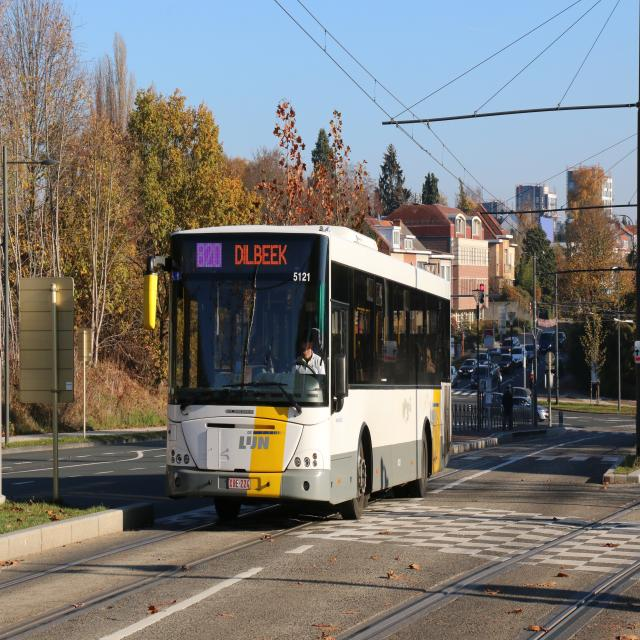bus-number: (196, 243, 222, 268)
